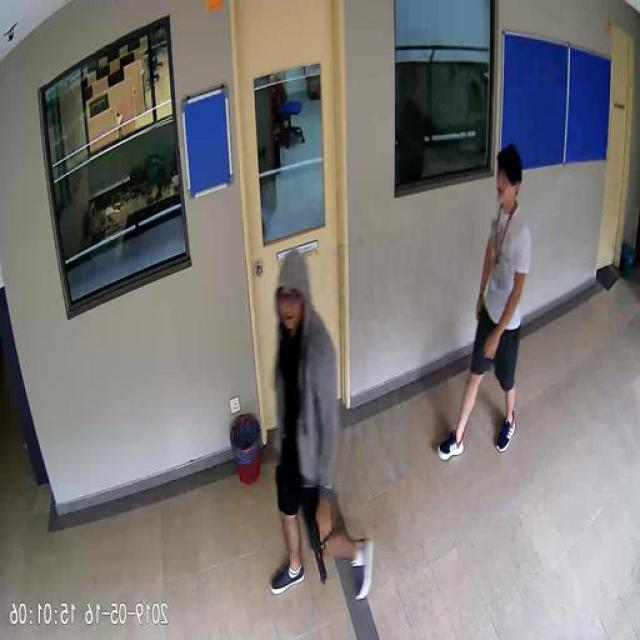Gun: (312, 514, 333, 582)
